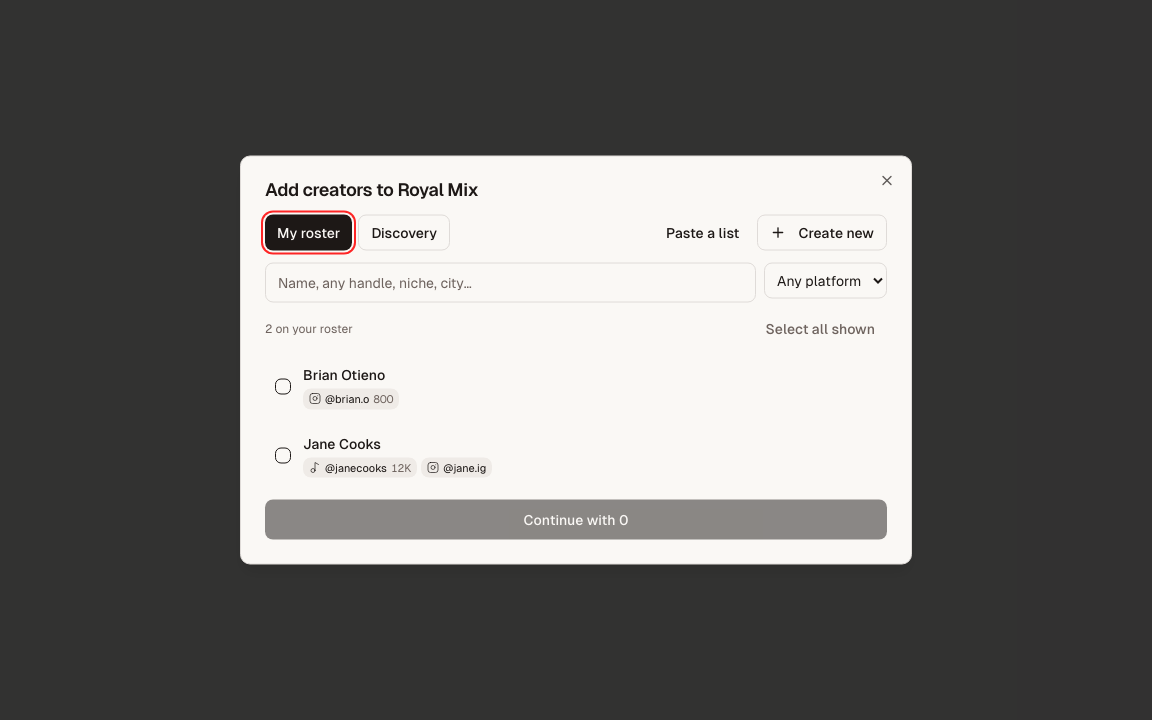
Test: adding from the roster on a campaign page › filters by platform across all their accounts
The width and height of the screenshot is (1152, 720).
Select "Instagram" in the dropdown named "platform filter". click: (826, 280)
box: x1=764 y1=262 x2=887 y2=298
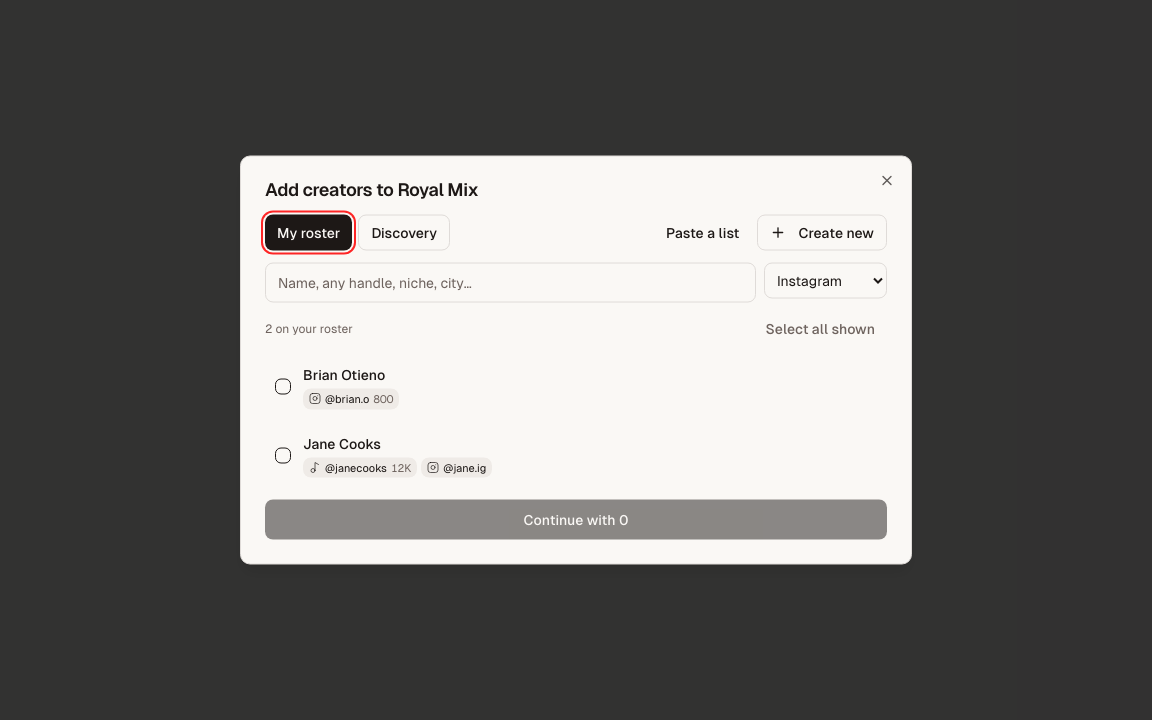
Check: the checkbox named "jane cooks" is shown, box x1=275 y1=447 x2=291 y2=463
Check: the checkbox named "brian otieno" is shown, box x1=275 y1=379 x2=291 y2=395
Select "TikTok" in the dropdown named "platform filter". click: (826, 280)
box: x1=764 y1=262 x2=887 y2=298
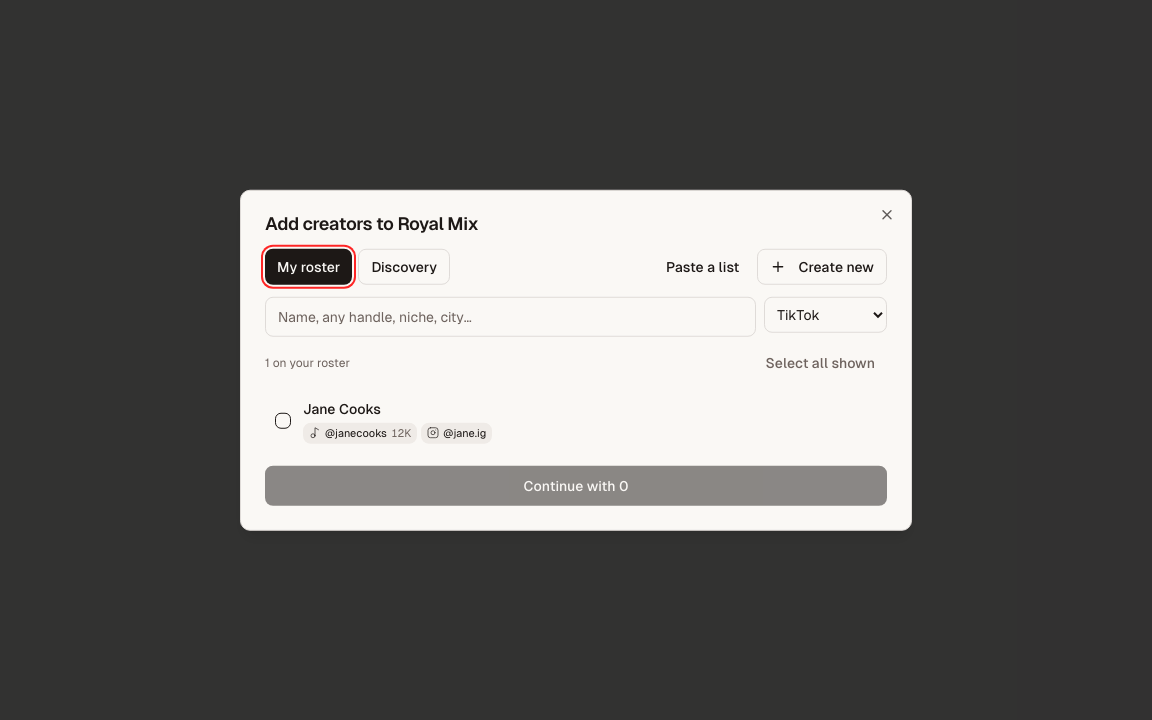
Check: the text "Brian Otieno" is gone
